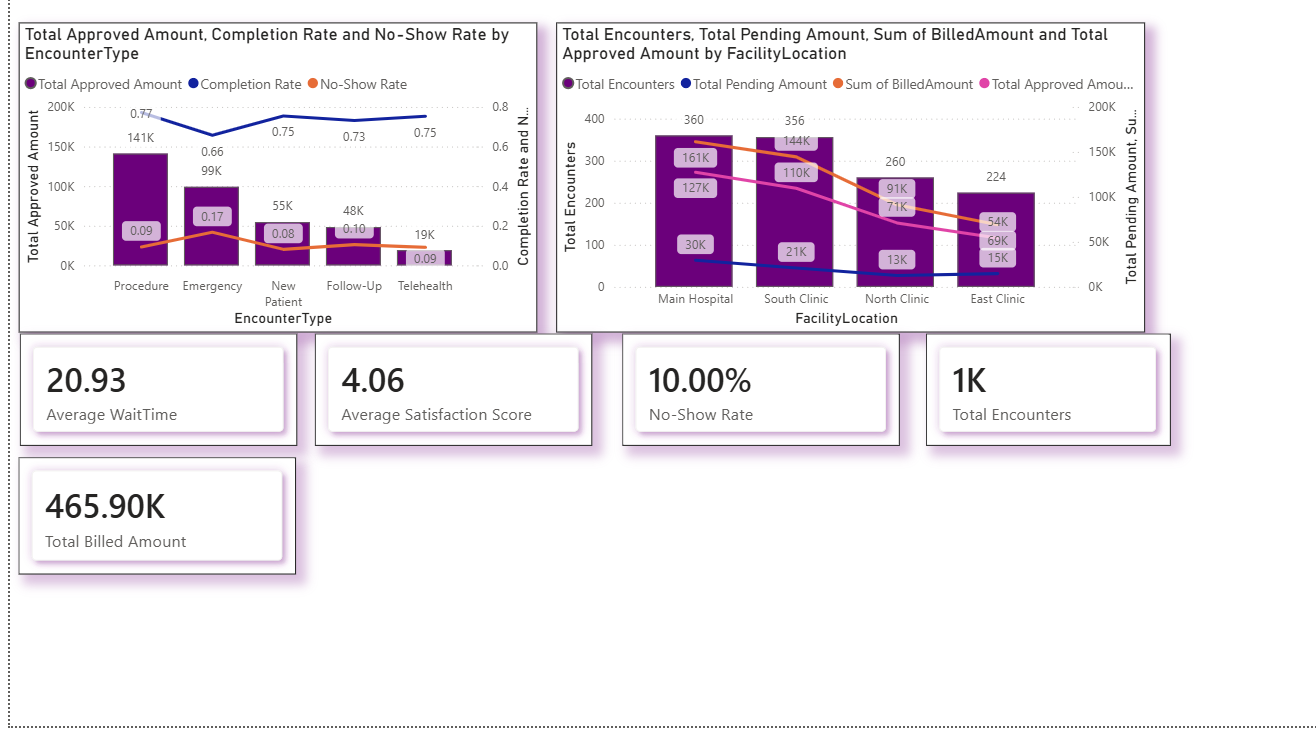

The dashboard page shown, as its layout file describes it:
{"tool":"powerbi","page":{"name":"Hospital Operation","canvas":[1280,720],"ordinal":2},"visuals":[{"type":"lineClusteredColumnComboChart","fields":{"Category":["EncountersTable.EncounterType"],"Y2":["ClaimsTable.Completion Rate","ClaimsTable.No-Show Rate"],"Y":["ClaimsTable.Total Revenue"]},"box":[8.7,32.3,507.5,303.5],"z":0},{"type":"lineClusteredColumnComboChart","fields":{"Y2":["ClaimsTable.Total Pending Amount","Sum(PaymentsTable.BilledAmount)","ClaimsTable.Total Approved Amount"],"Category":["EncountersTable.FacilityLocation"],"Y":["ClaimsTable.Total Encounters"]},"box":[534.9,32.3,576,303.5],"z":1000},{"type":"cardVisual","fields":{"Data":["ClaimsTable.Average WaitTime"]},"box":[9.3,336.3,271.4,109.9],"z":2000},{"type":"cardVisual","fields":{"Data":["ClaimsTable.Average Satisfaction Score"]},"box":[297.9,336.3,271.4,109.9],"z":3000},{"type":"cardVisual","fields":{"Data":["ClaimsTable.No-Show Rate"]},"box":[599.8,336.3,271.4,109.9],"z":4000},{"type":"cardVisual","fields":{"Data":["ClaimsTable.Total Encounters"]},"box":[896.9,335.9,238.8,109.5],"z":5000},{"type":"cardVisual","fields":{"Data":["ClaimsTable.Total Billed Amount"]},"box":[8.7,457.8,271.2,114.4],"z":6000}]}

Visuals, with their boxes in screenshot pixels (x1, y1, x2, y2), scaled from the page's 1280x720 canvas onto the 1316x730 screenshot:
lineClusteredColumnComboChart - EncountersTable.EncounterType x ClaimsTable.Completion Rate: bbox=(9, 33, 531, 340)
lineClusteredColumnComboChart - ClaimsTable.Total Pending Amount x Sum(PaymentsTable.BilledAmount): bbox=(550, 33, 1142, 340)
cardVisual - ClaimsTable.Average WaitTime: bbox=(10, 341, 289, 452)
cardVisual - ClaimsTable.Average Satisfaction Score: bbox=(306, 341, 585, 452)
cardVisual - ClaimsTable.No-Show Rate: bbox=(617, 341, 896, 452)
cardVisual - ClaimsTable.Total Encounters: bbox=(922, 341, 1168, 452)
cardVisual - ClaimsTable.Total Billed Amount: bbox=(9, 464, 288, 580)
